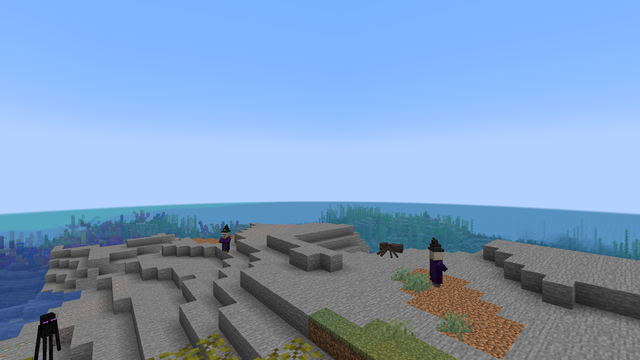araignees: (376, 239, 402, 257)
endermens: (39, 309, 55, 359)
sorcieres: (427, 247, 443, 289), (221, 230, 229, 253)
